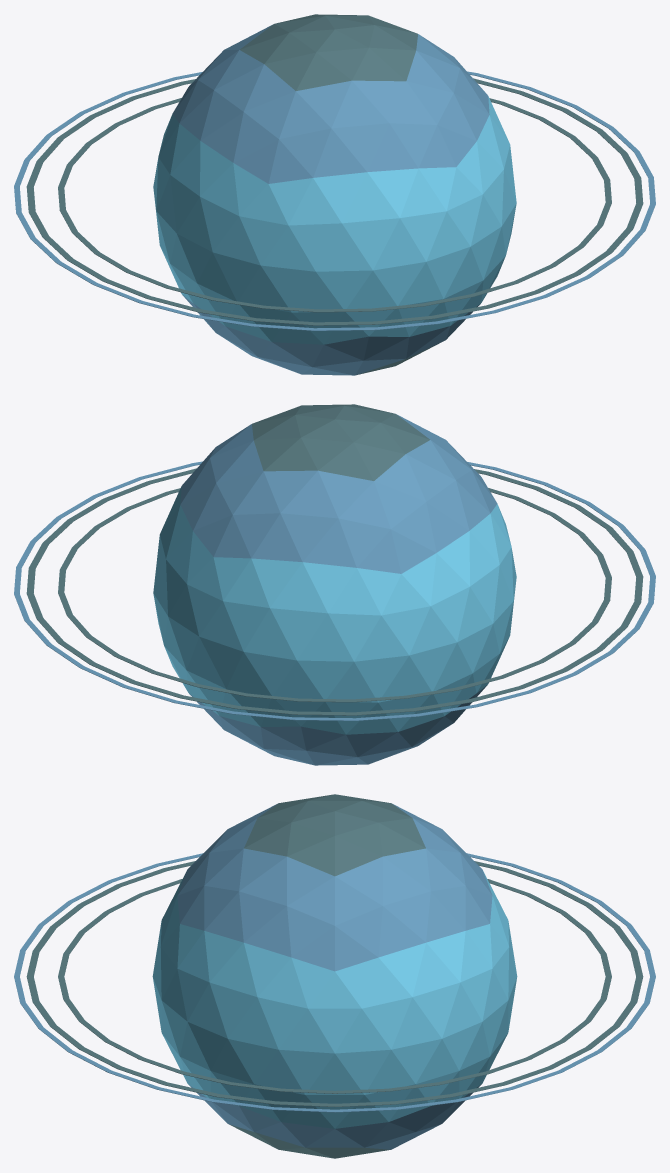
Rendered from uranus.glb.
3 renders of one model, top to bottom at view 1: azimuth 30°, elevation 25°; view 2: azimuth 150°, elevation 25°; view 3: azimuth 270°, elevation 25°, orthographic.
Parts seen in each view (by area): view 1: Icosphere; view 2: Icosphere; view 3: Icosphere.
Boxes of the visible parts, left/top/right/bottom form: Icosphere: left=14, top=14, right=655, bottom=375; Icosphere: left=14, top=404, right=655, bottom=765; Icosphere: left=14, top=794, right=655, bottom=1158.
Size of the model in its own units: 8.93 by 5.07 by 8.93.
